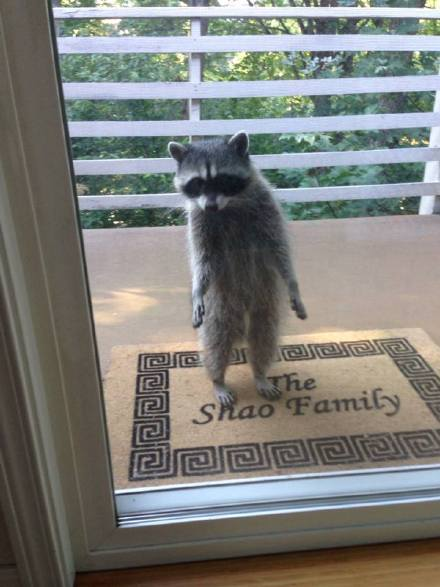raccoon: (161, 126, 309, 409)
